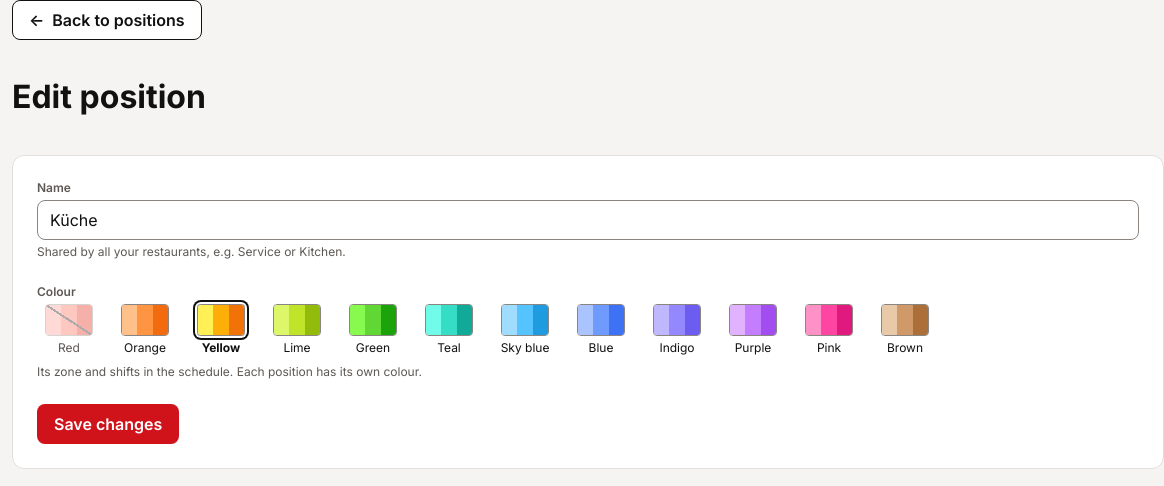
Test: EditPosition › saving › puts the trimmed name, then returns to the list
Expected: the heading "Edit position" is shown, [12,77,206,116]
Replace the text in the field labelled "Name" with "  Kasse " at (588, 220), box [37,200,1139,240]
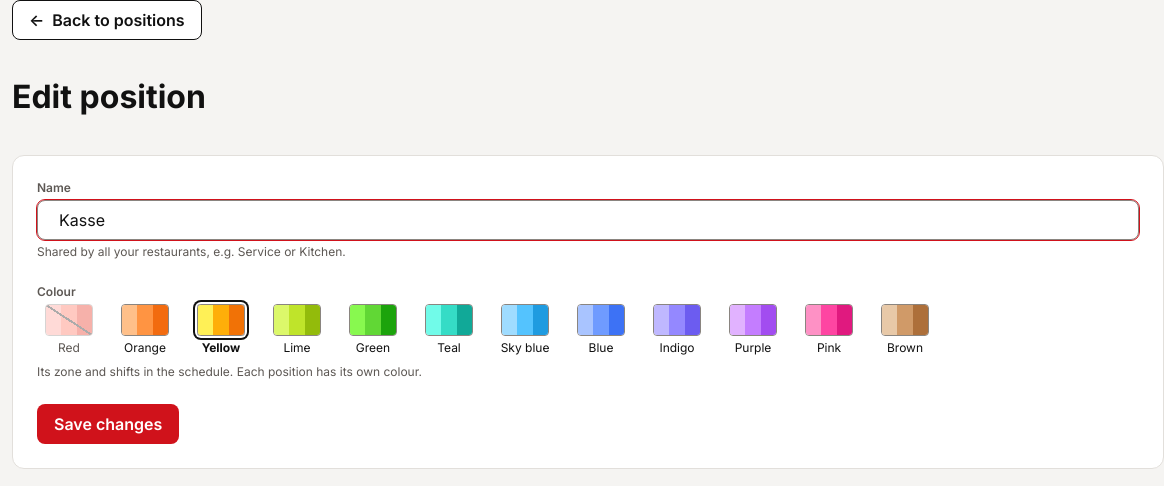
Click the button "Save changes" at (108, 424), box [37,404,179,444]
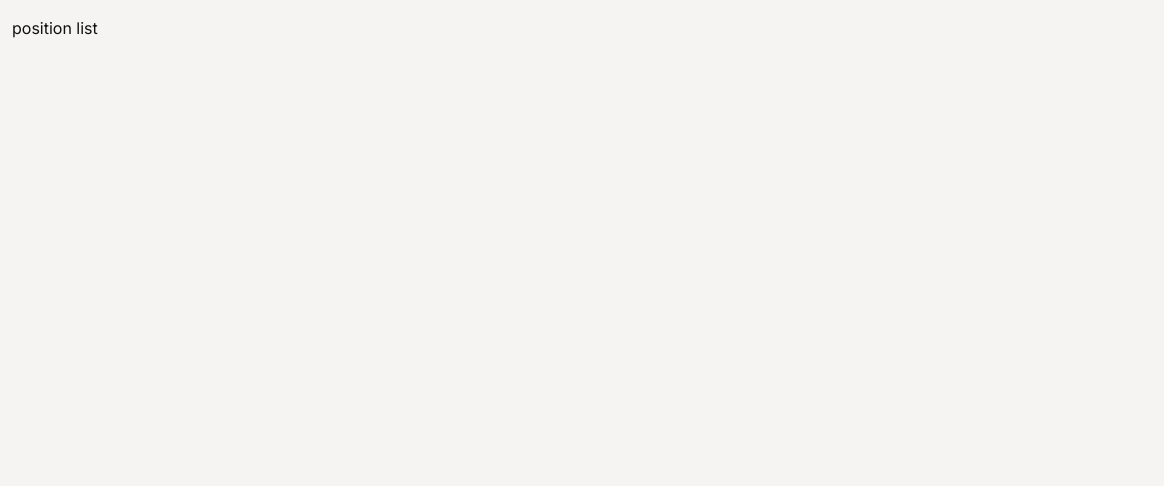
Expected: the text "position list" is shown, [12,18,98,38]
